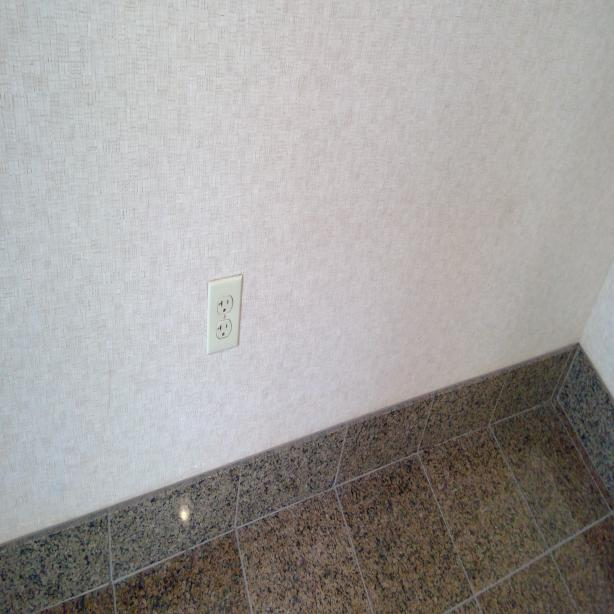typeb: (216, 320, 232, 340), (217, 296, 232, 316)
